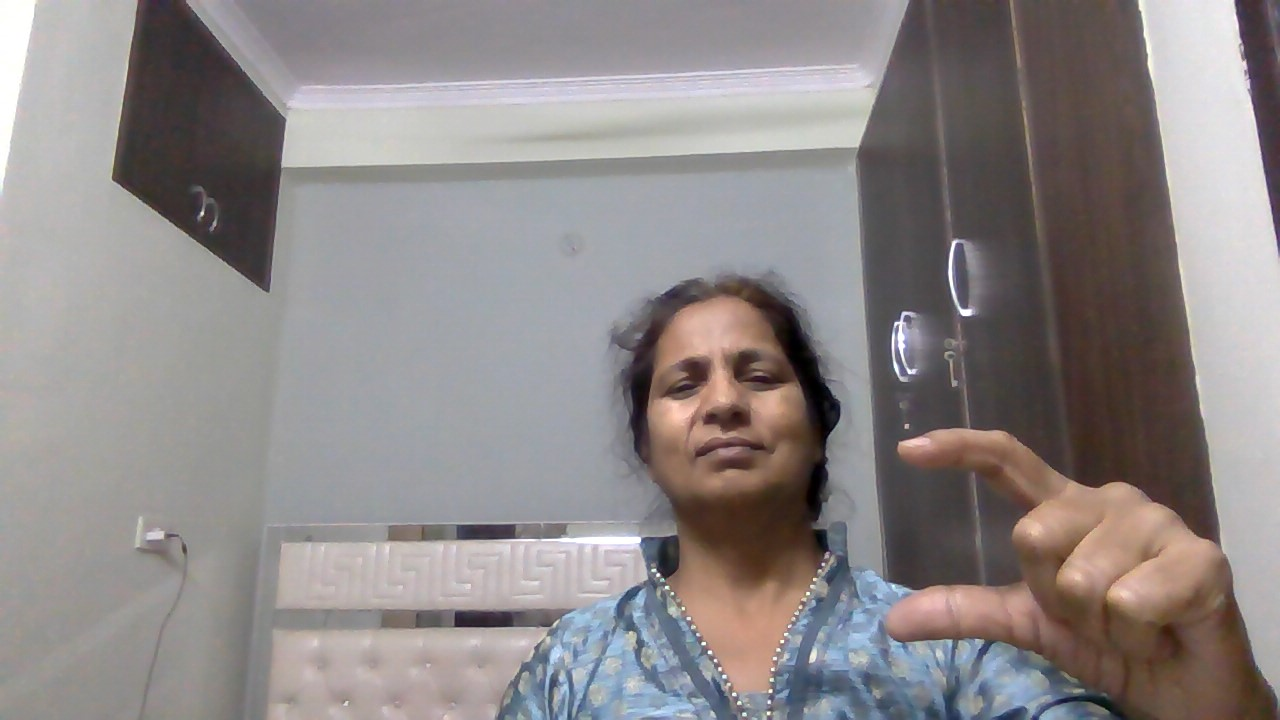Paste: (875, 412, 1279, 714)
